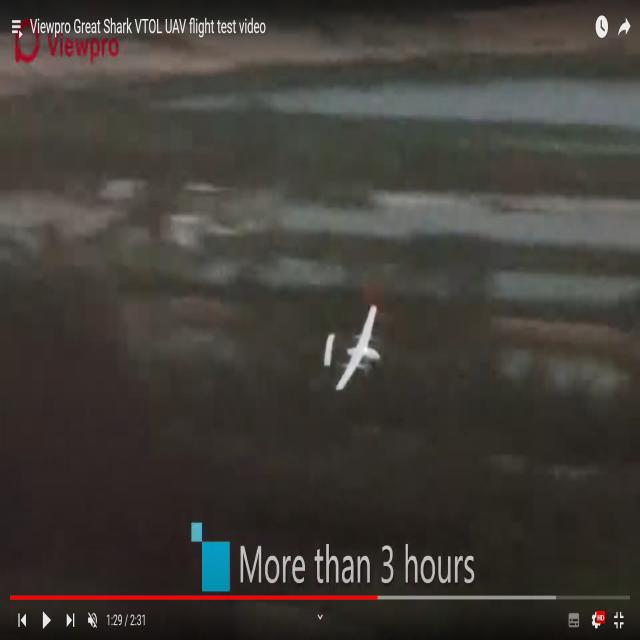iha: (323, 338, 382, 358)
